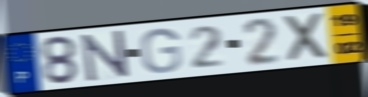2: (240, 17, 282, 68), (188, 24, 226, 71)
8: (39, 34, 79, 86)
G: (138, 26, 184, 75)
N: (79, 29, 132, 84)
X: (281, 10, 331, 65)
